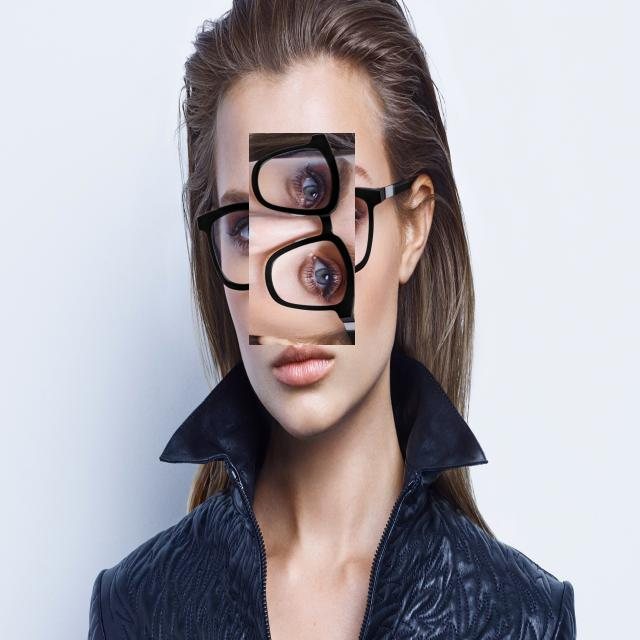glasses: (222, 160, 382, 319)
